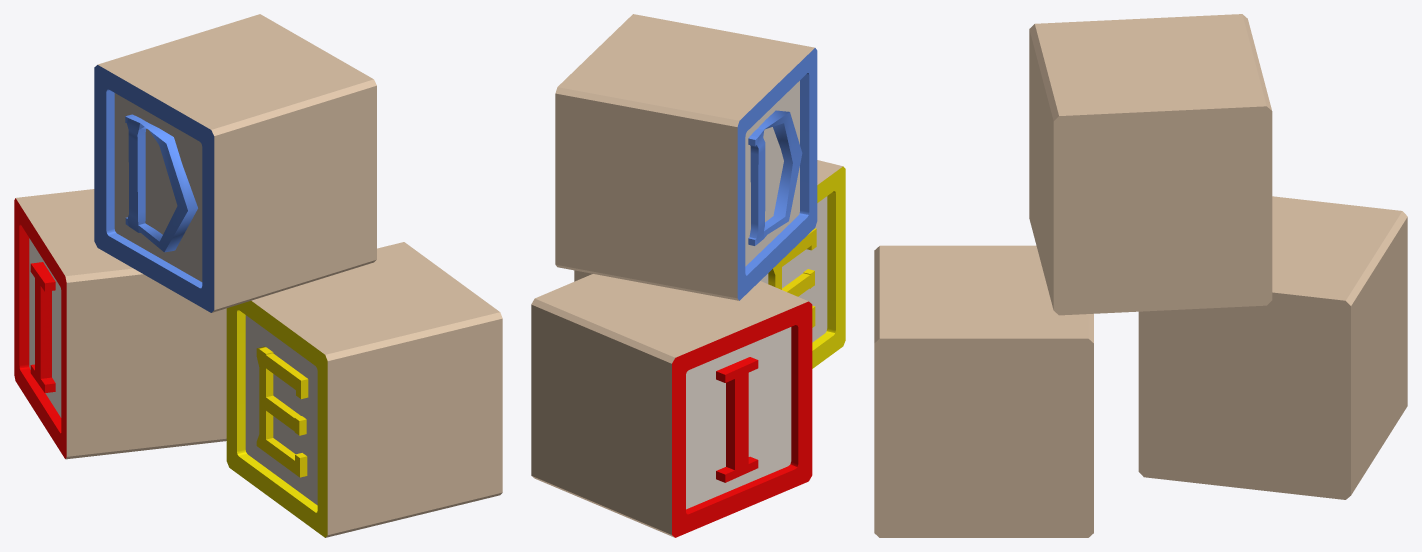
The model's file is ToyBlocks.glb.
3 renders of one model, left to right at view 1: azimuth 30°, elevation 25°; view 2: azimuth 150°, elevation 25°; view 3: azimuth 270°, elevation 25°, orthographic. The views are drawn at different scales.
Visible parts, largest first — view 1: d, pasted__pCube4, polySurface1, D, pCube7, I; view 2: d, polySurface1, pasted__pCube4, D, I, pCube7; view 3: d, pasted__pCube4, polySurface1.
Part boxes in pixels (<box>): d: <box>94,14,376,312</box>; pasted__pCube4: <box>226,242,502,537</box>; polySurface1: <box>14,189,226,459</box>; D: <box>125,114,197,252</box>; pCube7: <box>256,346,308,477</box>; I: <box>30,262,55,392</box>; d: <box>555,14,817,300</box>; polySurface1: <box>531,274,812,537</box>; pasted__pCube4: <box>574,160,845,368</box>; D: <box>748,110,802,245</box>; I: <box>716,357,758,482</box>; pCube7: <box>768,228,816,327</box>; d: <box>1029,14,1272,315</box>; pasted__pCube4: <box>874,245,1093,537</box>; polySurface1: <box>1138,196,1407,499</box>.
Bounding box in the file's own units: 0.0824 × 0.1005 × 0.1213.
